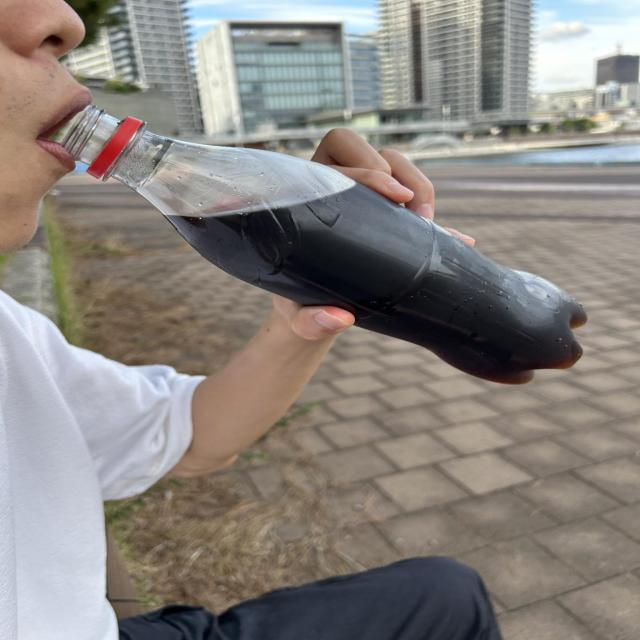high: (61, 106, 586, 383)
